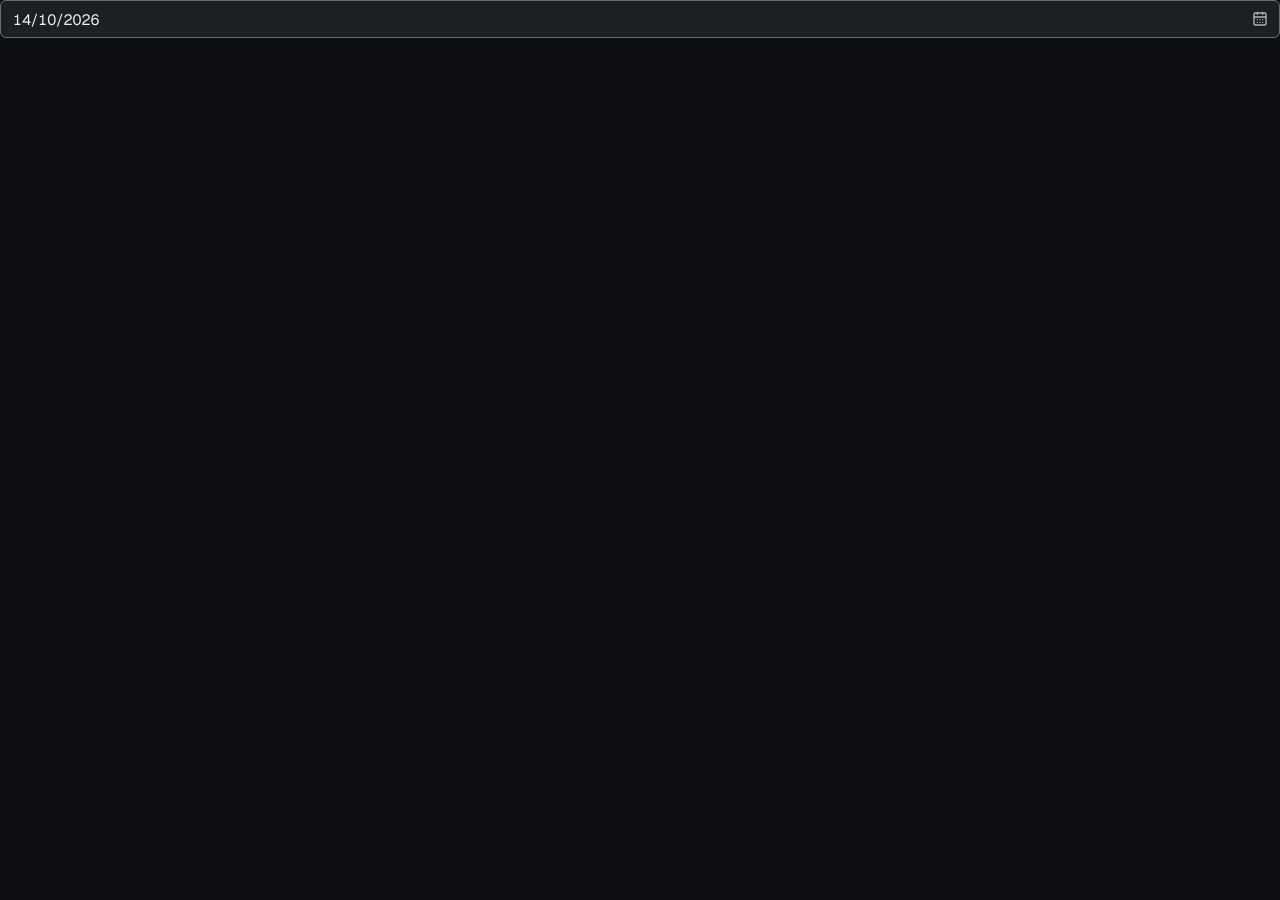
Test case: DateField › min / max : jours hors bornes désactivés, saisie ramenée dans les bornes
Replace the text in the field named "Jour" with "01/10/2026" at (640, 19), box x1=0 y1=0 x2=1279 y2=38
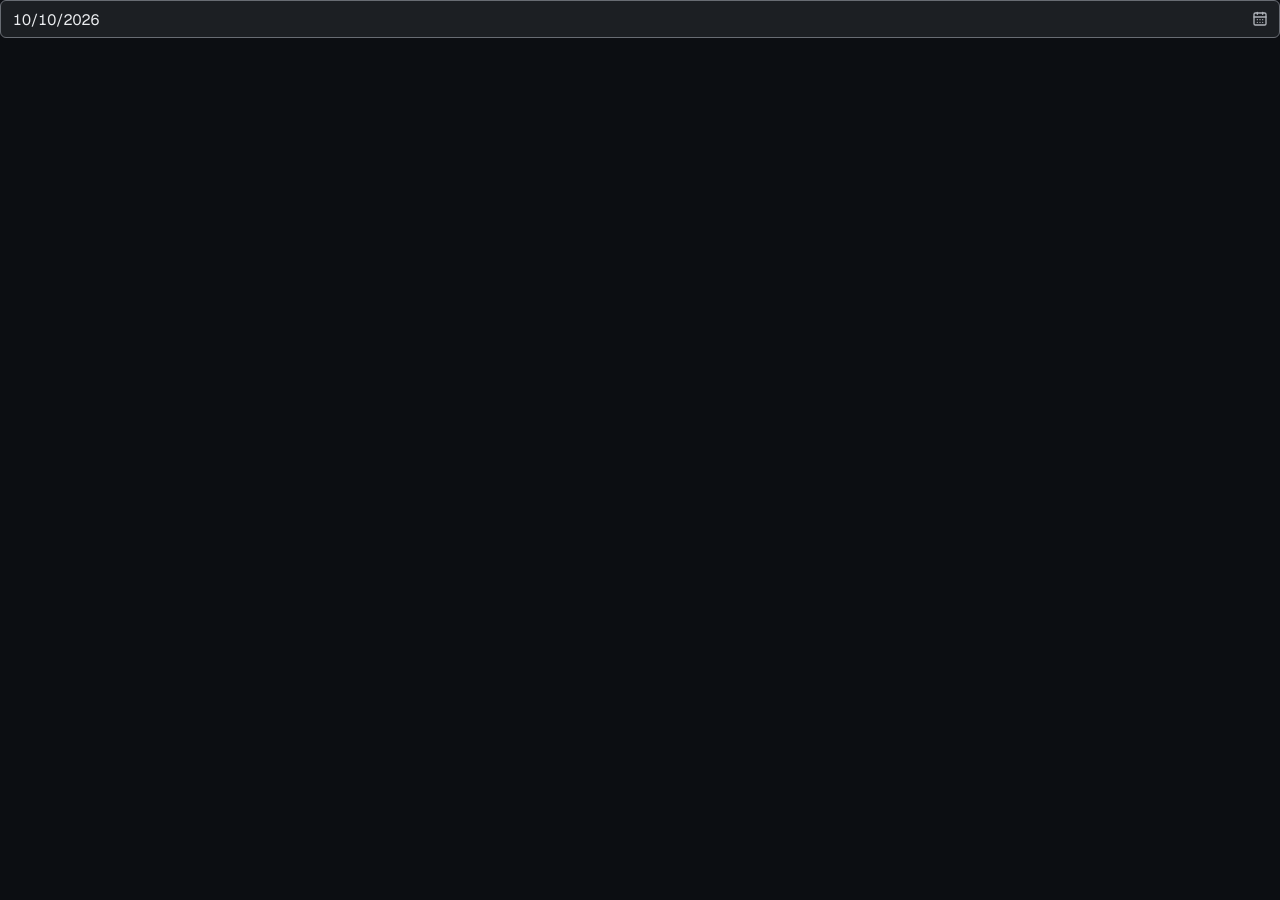
Click the button named "Ouvrir le calendrier".
click(1260, 19)  # box x1=1244 y1=3 x2=1276 y2=35
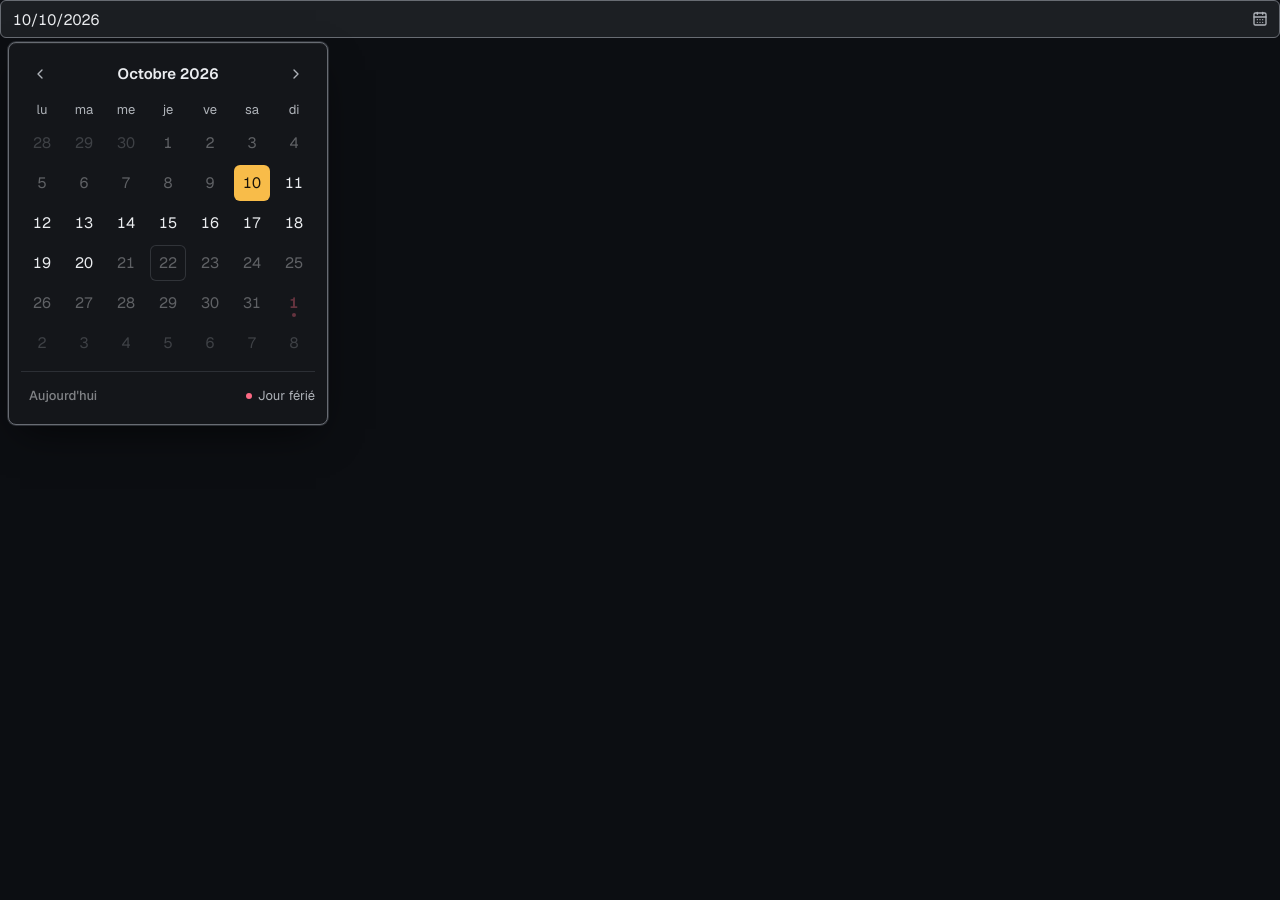
Expected: the button named "21 octobre 2026" is disabled, x1=108 y1=245 x2=144 y2=281
